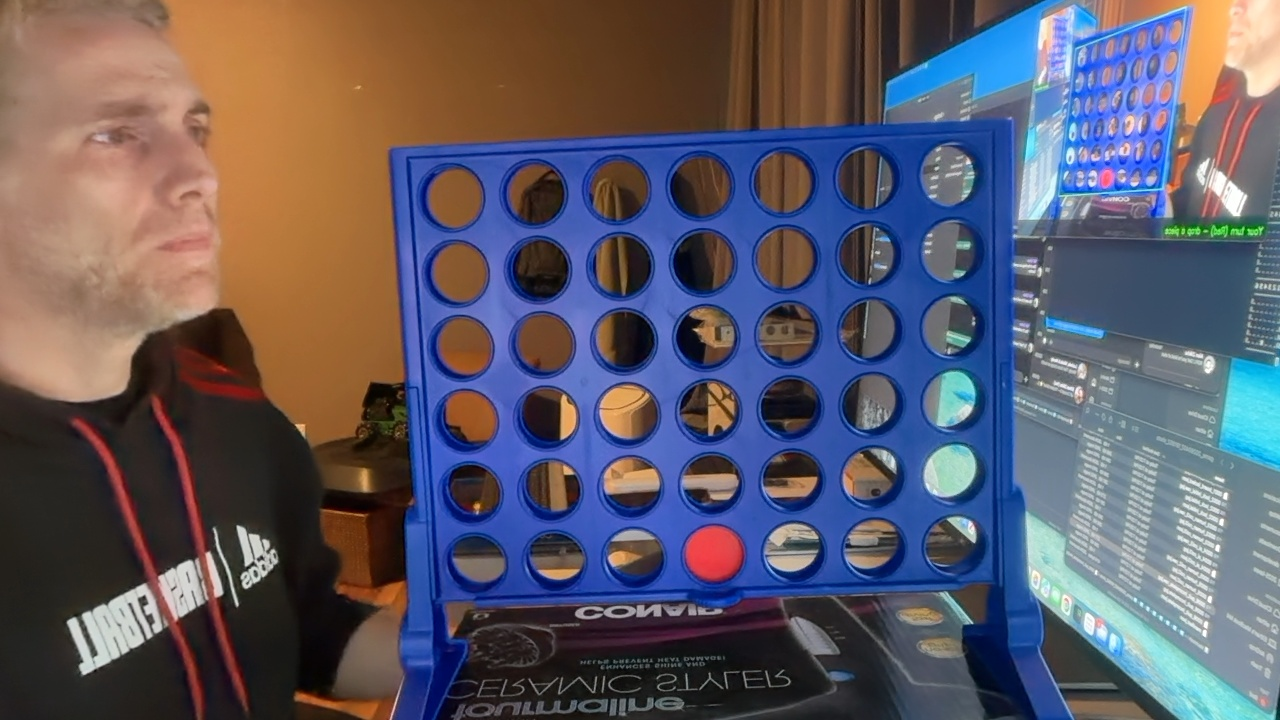red piece: (684, 525, 744, 583)
